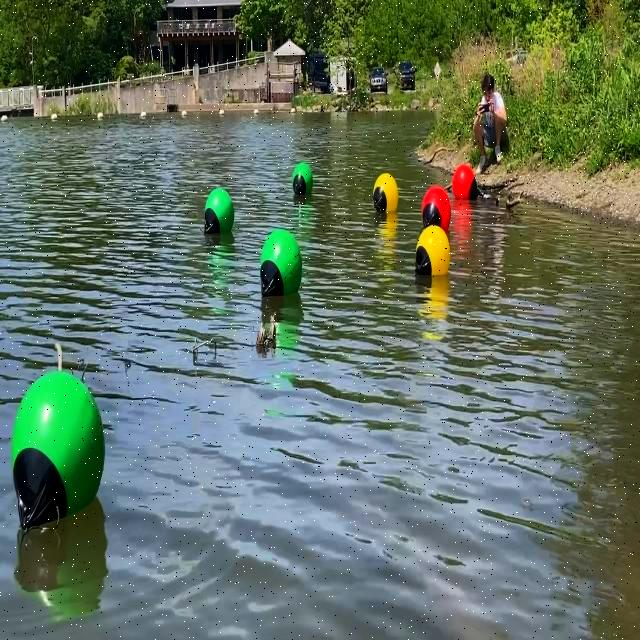buoy: (14, 366, 106, 538), (259, 230, 302, 300), (416, 222, 450, 276), (420, 183, 450, 233), (206, 186, 236, 234), (372, 172, 400, 216), (452, 162, 482, 201), (291, 162, 312, 198)
